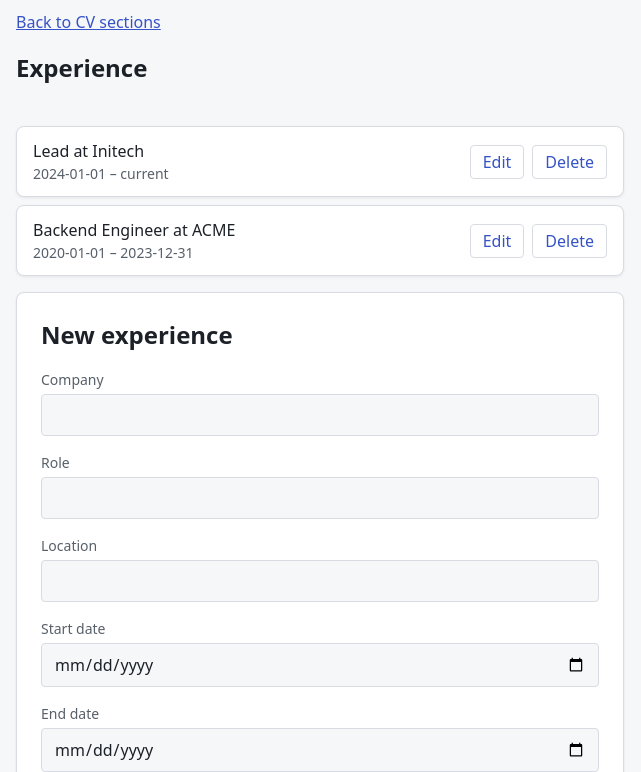
it: ExperiencesPage › deletes with DELETE and drops the row
Click the button with aria-label "Delete Backend Engineer at ACME" at [570, 240], box [532,224,607,258]
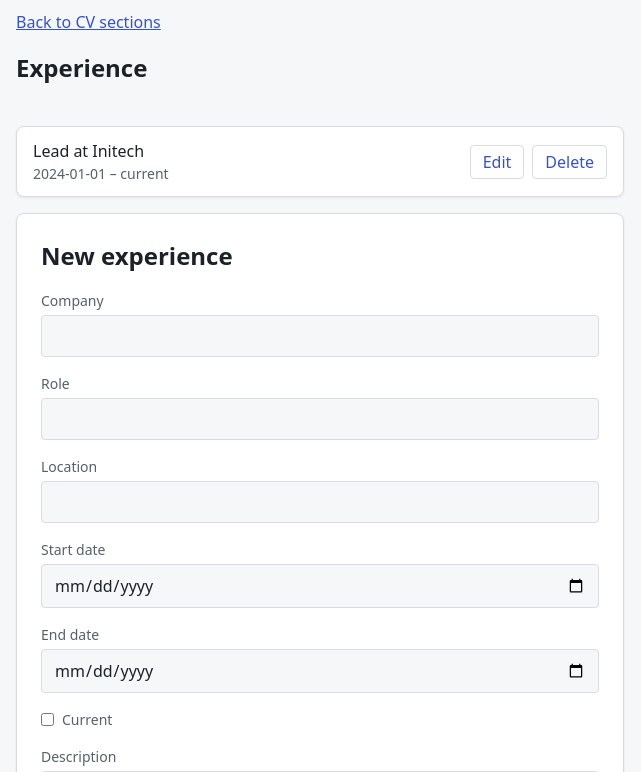
Now the text "Backend Engineer at ACME" is gone
